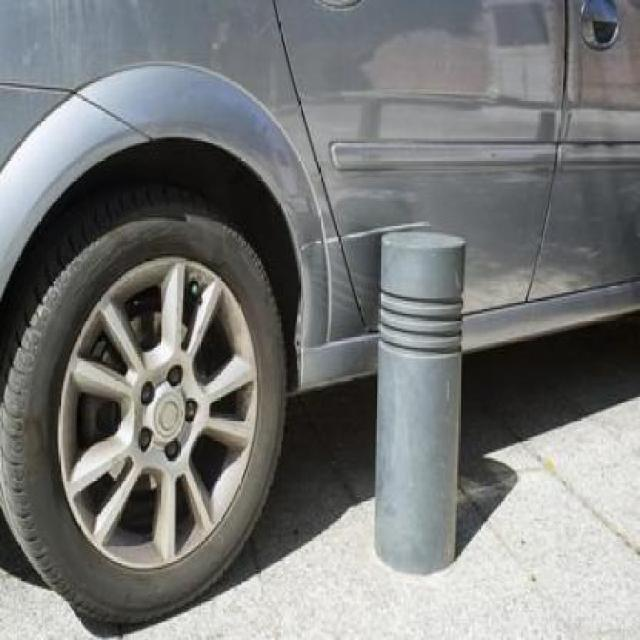scratch: (296, 217, 437, 259)
